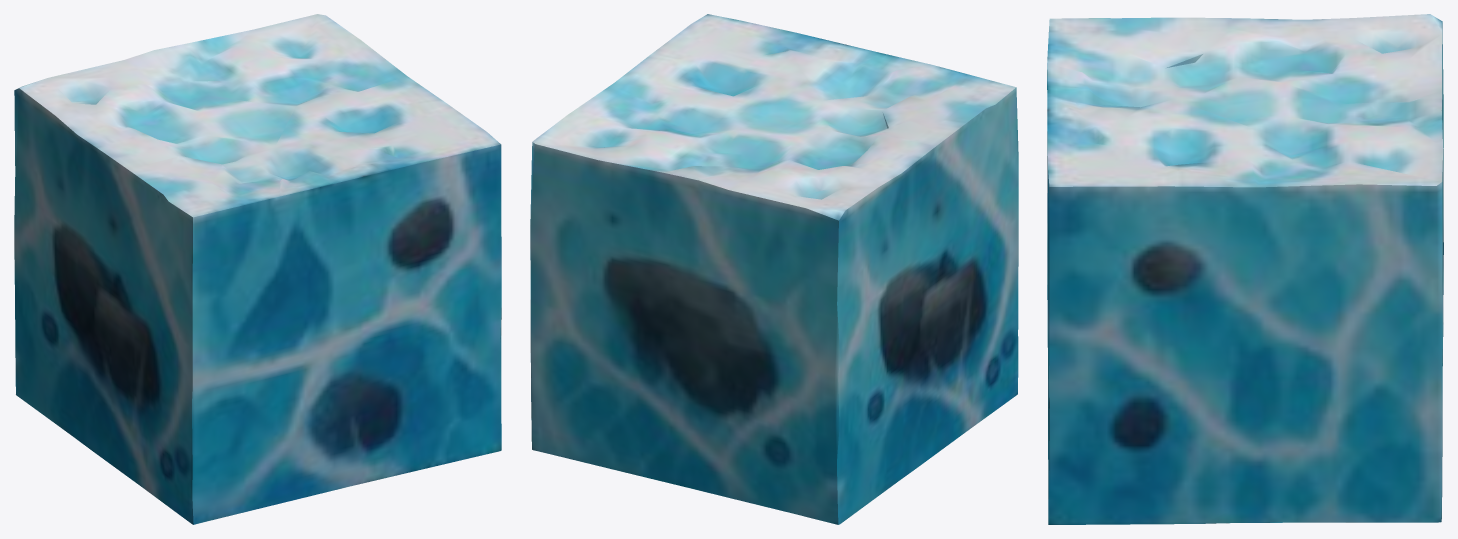
Rendered from b_givre_mur_2.glb.
3 views of the same model, side by side, from view 1: azimuth 30°, elevation 25°; view 2: azimuth 150°, elevation 25°; view 3: azimuth 270°, elevation 25° (orthographic). The views are drawn at different scales.
Visible parts, largest first — view 1: geometry_0; view 2: geometry_0; view 3: geometry_0.
Boxes of the visible parts, <box> form: geometry_0: <box>14,14,501,524</box>; geometry_0: <box>530,14,1018,524</box>; geometry_0: <box>1047,14,1443,524</box>.
Size of the model in its own units: 1 by 0.9574 by 1.
1 material, 1 textured.
